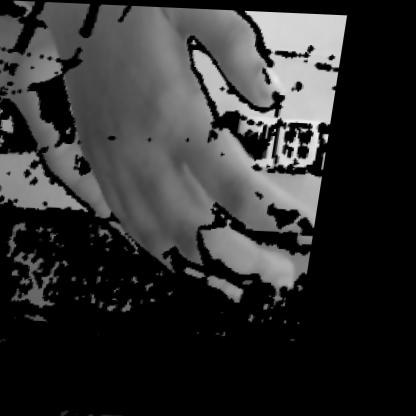dua: (0, 1, 342, 300)
